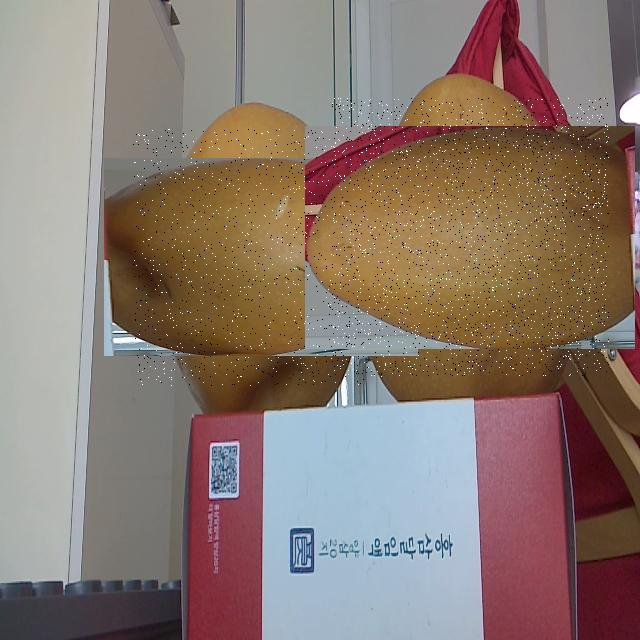pear: (332, 98, 609, 376), (133, 129, 389, 386)
